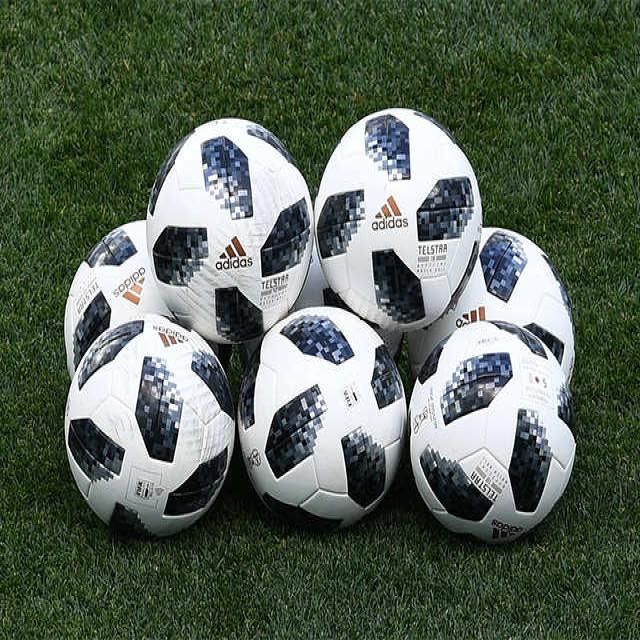soccer ball: (239, 305, 405, 535), (67, 316, 235, 543), (409, 322, 579, 542), (317, 105, 481, 331), (151, 117, 311, 340)
